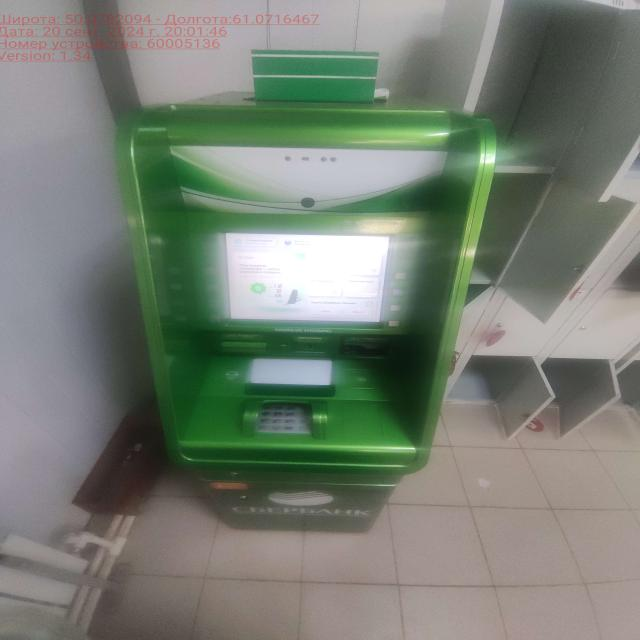bank: (117, 79, 504, 540)
